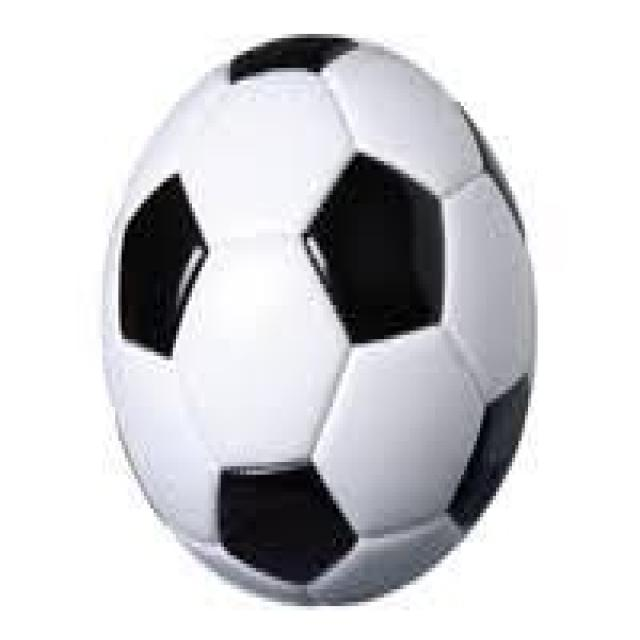Soccer Ball: (102, 34, 538, 610)
